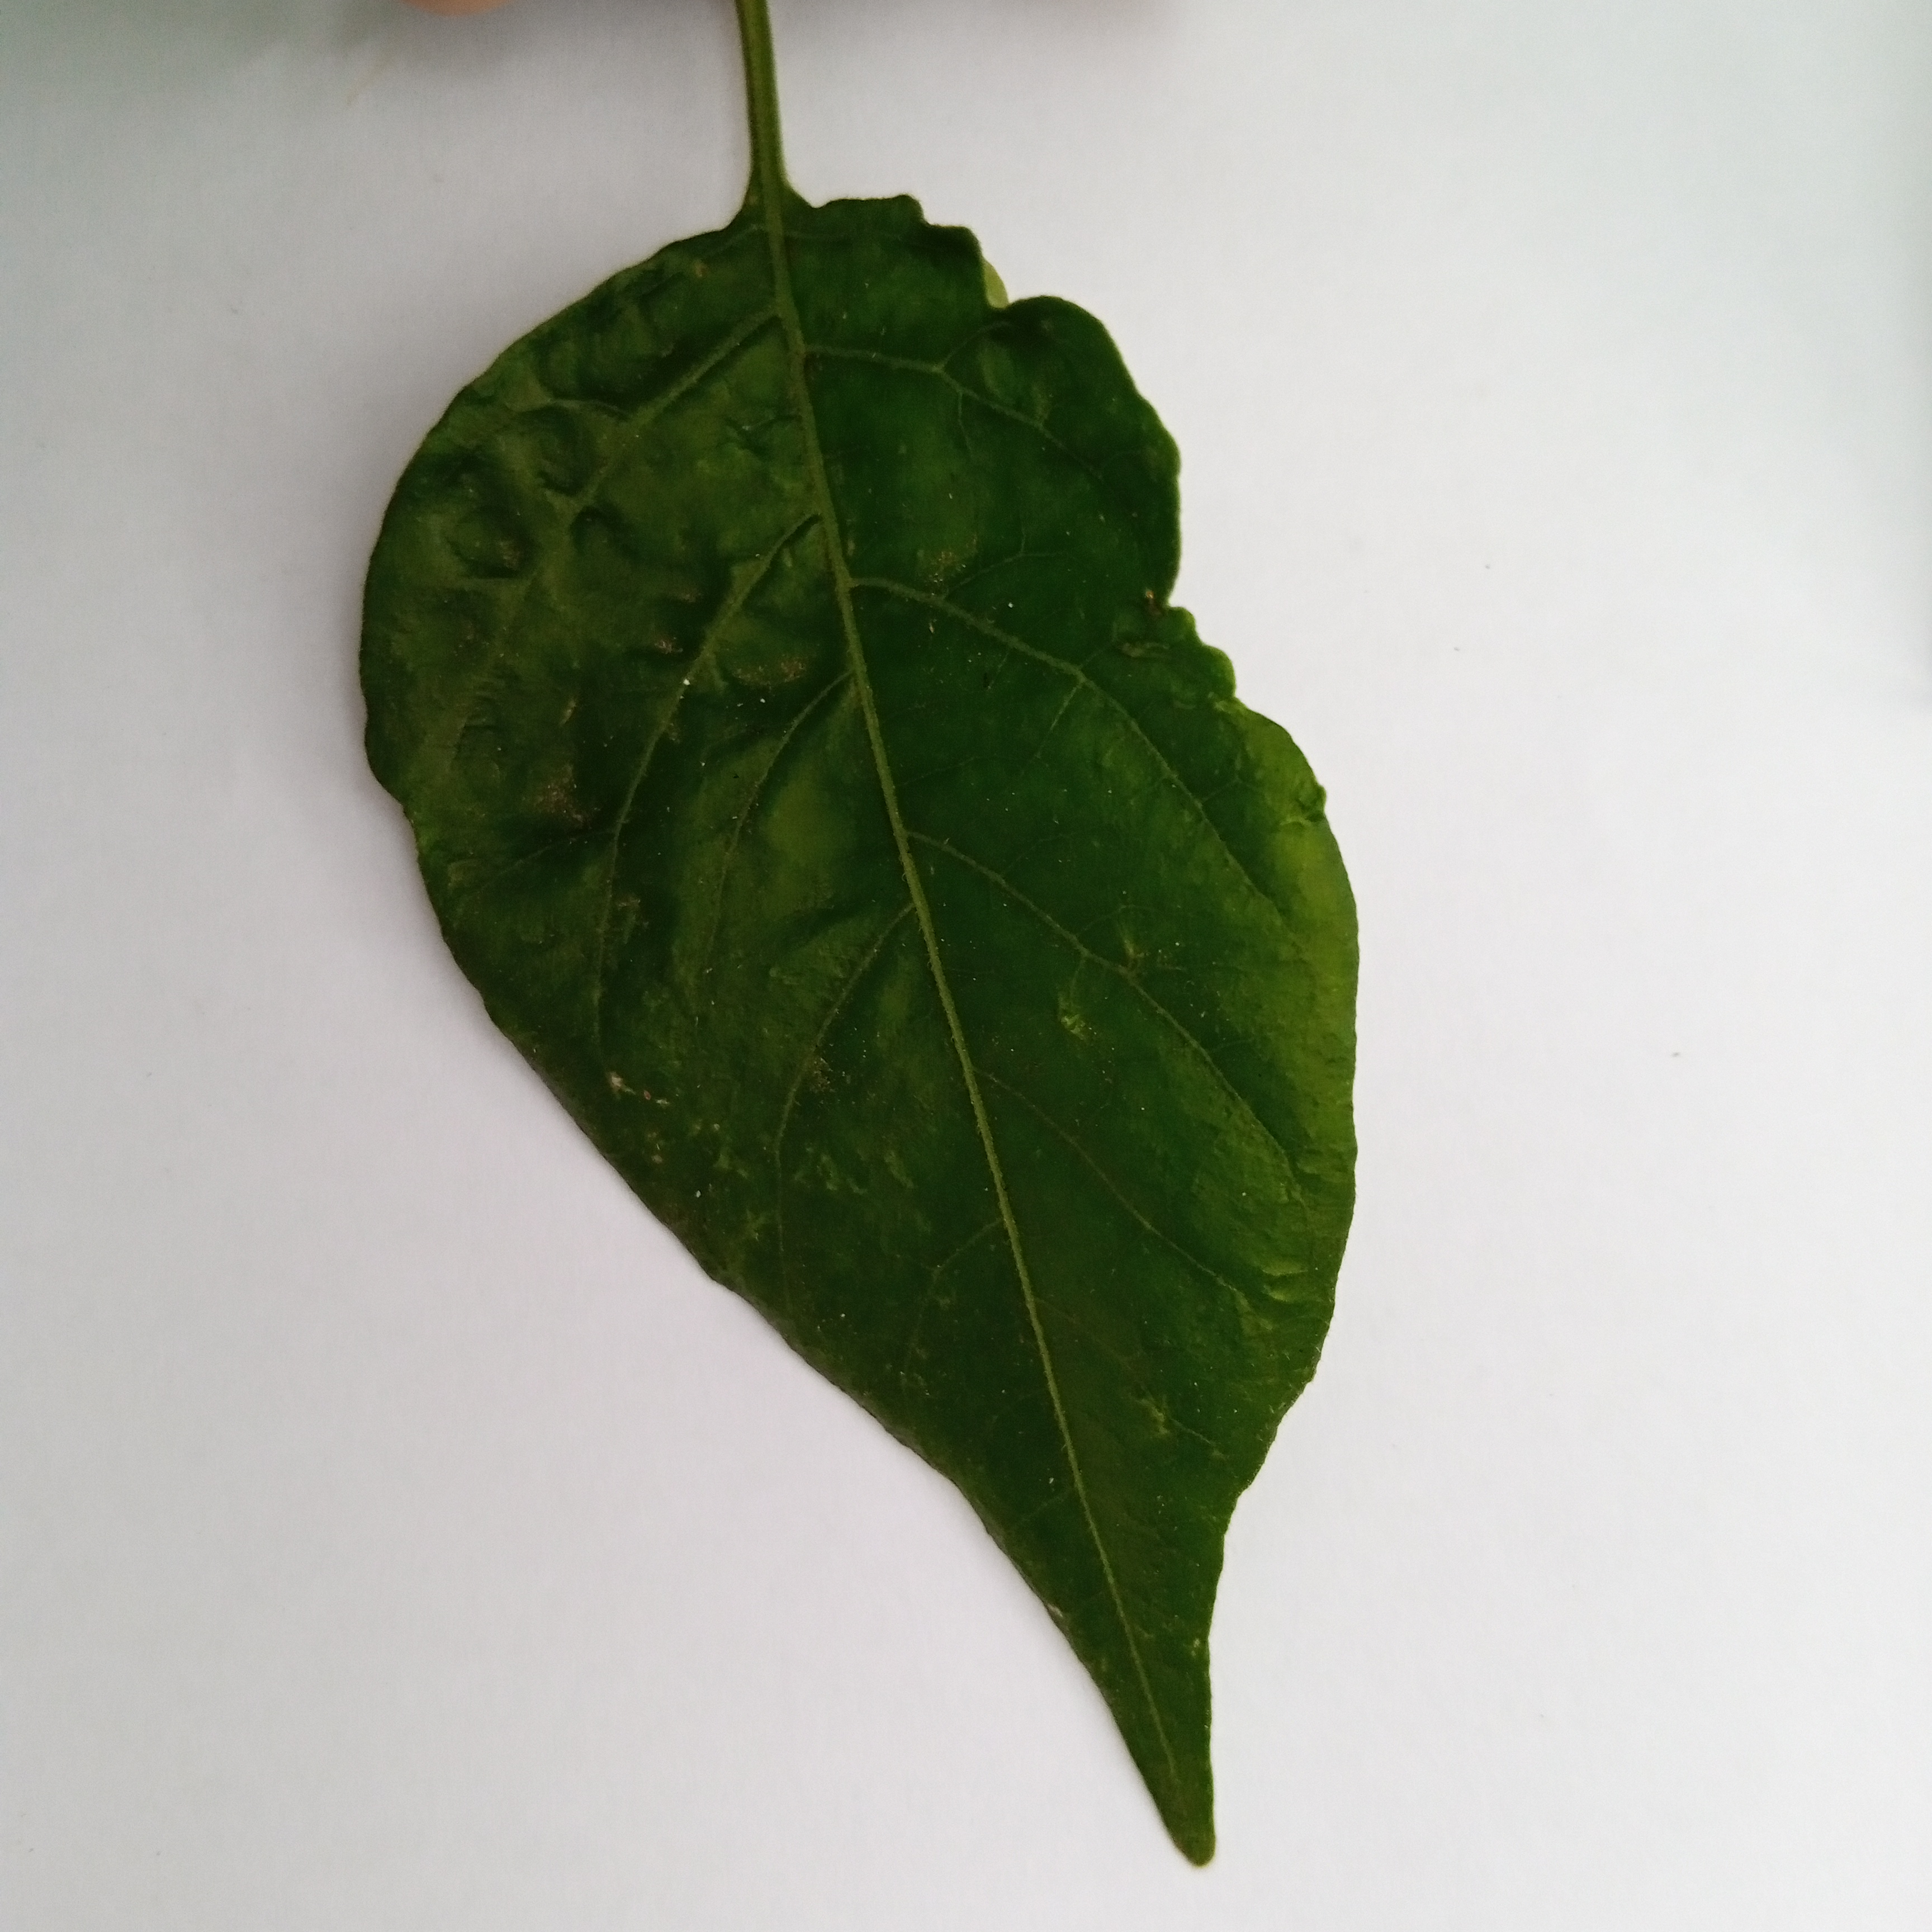Leaf: (287, 159, 1387, 1886)
